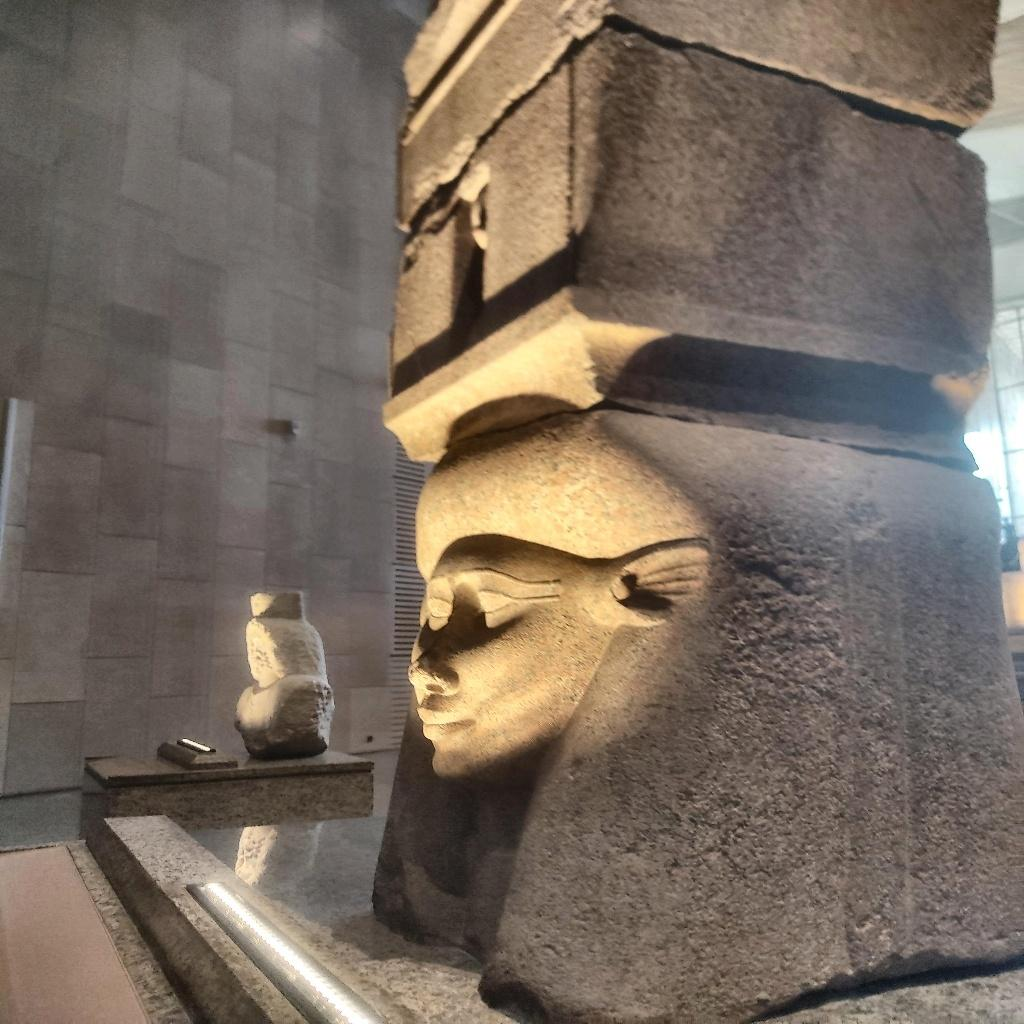Hathor Capital: (389, 0, 995, 796)
